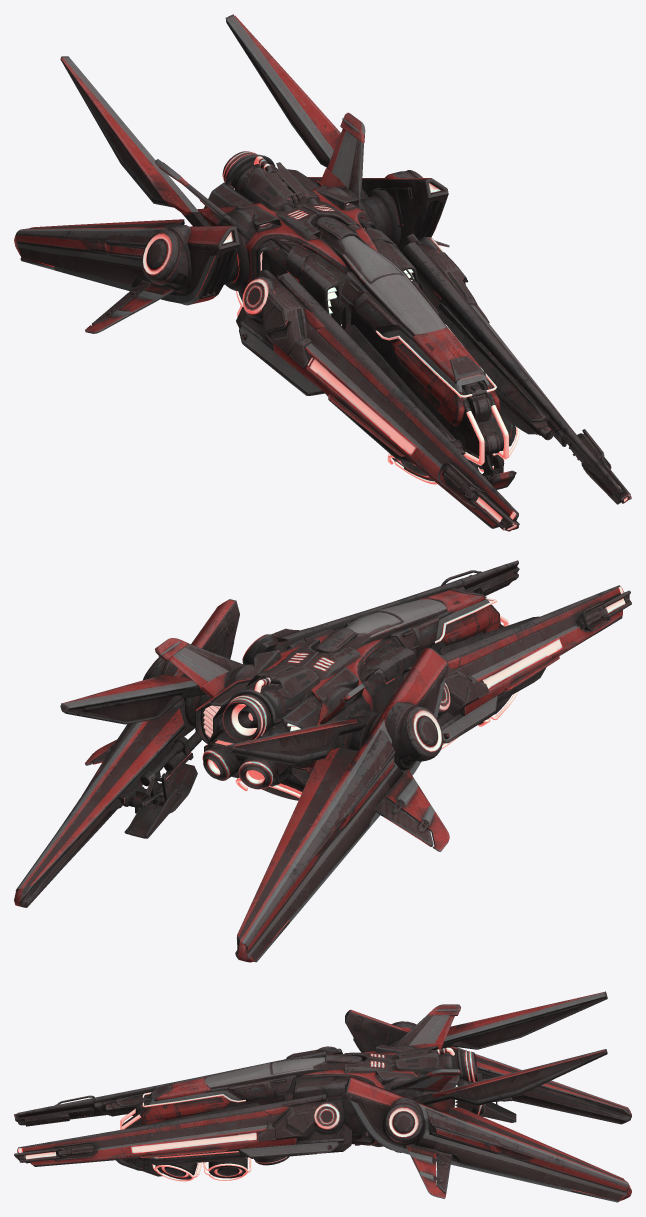
Rendered from wasp.glb.
3 renders of one model, top to bottom at view 1: azimuth 30°, elevation 25°; view 2: azimuth 150°, elevation 25°; view 3: azimuth 270°, elevation 25°, orthographic. The views are drawn at different scales.
Parts seen in each view (by area): view 1: pCube380; view 2: pCube380; view 3: pCube380.
Part boxes in pixels (box(x1,y1,x2,y2)): pCube380: box(14, 14, 631, 531); pCube380: box(14, 560, 631, 962); pCube380: box(14, 991, 631, 1202).
Bounding box in the file's own units: 358 × 211 × 768.
1 material, 1 textured.
